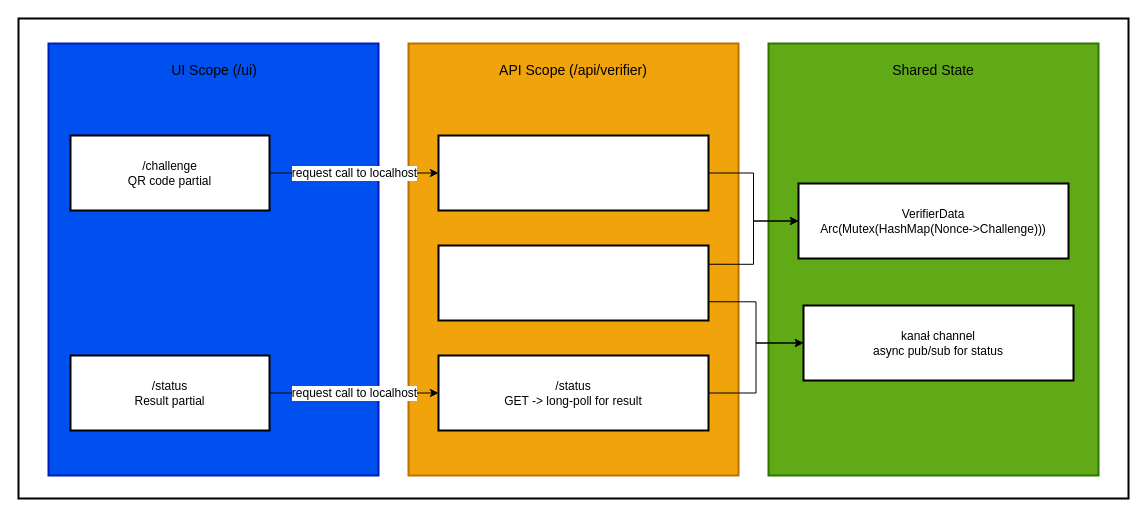
The diagram is 1146 pixels wide and 516 high, and some of its shapes have lost their labels. The centre of each missing label's shape, as x and y in pixels:
/challenge GET -> generate Challenge: pixel 573 172
/verify POST -> Groth16 verify proof: pixel 573 282
